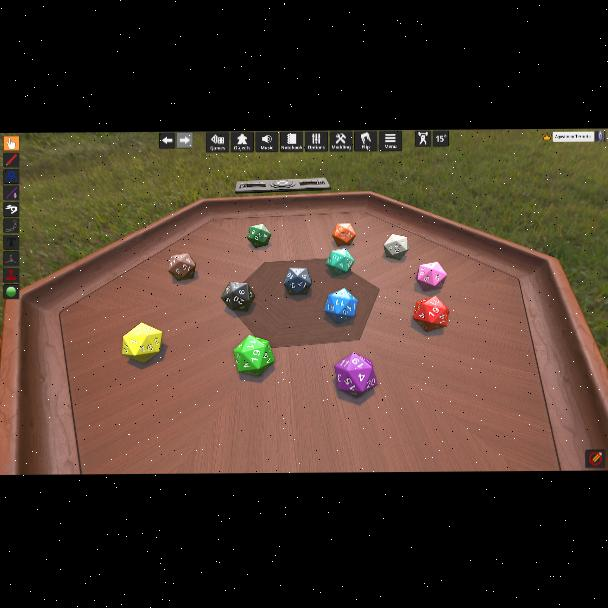d20: (232, 334, 276, 380), (334, 352, 377, 397), (122, 323, 164, 363), (412, 296, 446, 331), (324, 288, 356, 323), (222, 281, 254, 311), (416, 262, 447, 292), (325, 248, 353, 277), (168, 254, 196, 282), (284, 268, 312, 295), (382, 234, 409, 260), (248, 224, 272, 248), (332, 224, 354, 247)
